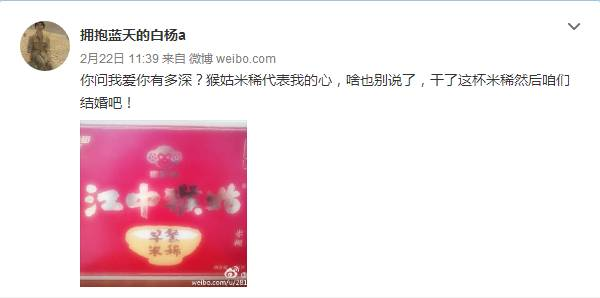box: (81, 120, 249, 287)
